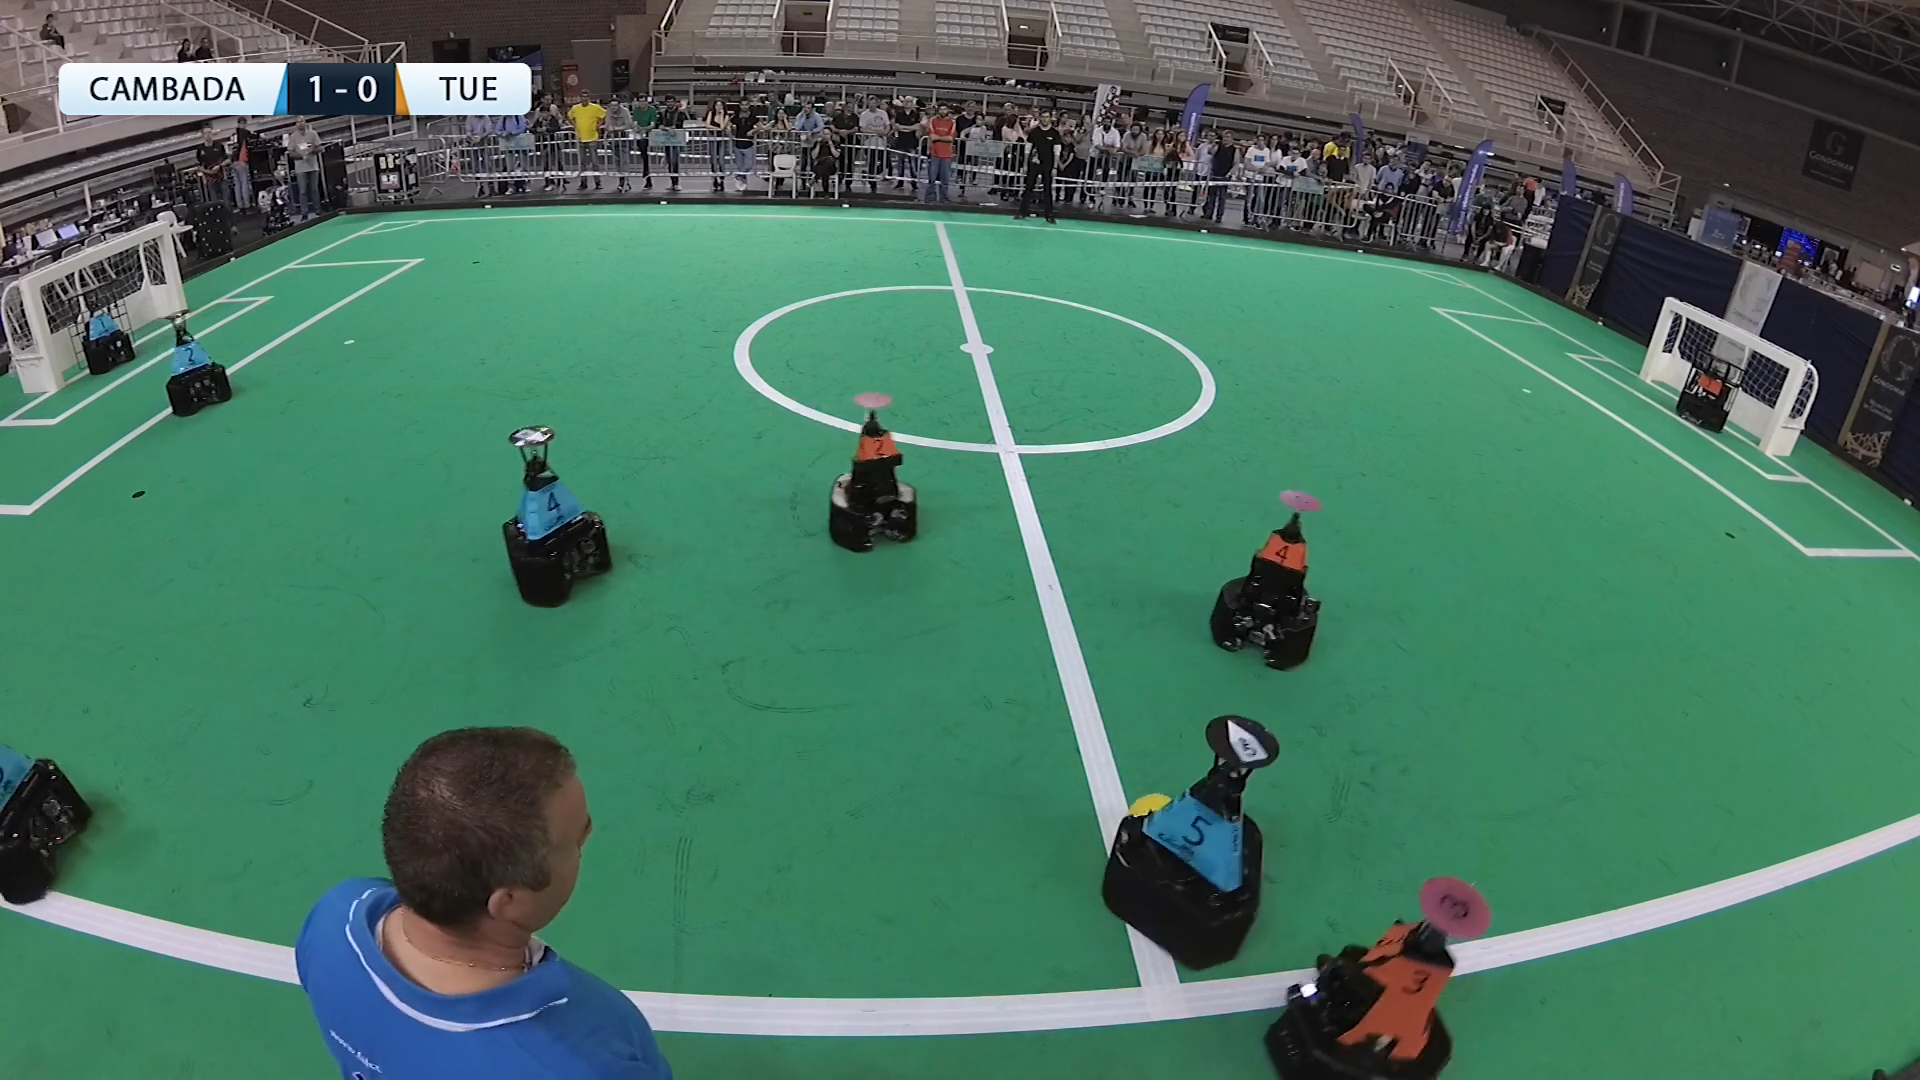BALL: (1120, 789, 1179, 814)
BLUE2: (161, 295, 229, 419)
BLUE3: (1, 700, 83, 938)
BLUE4: (480, 419, 621, 609)
BLUE5: (1087, 709, 1294, 969)
B_Goalie: (67, 273, 138, 385)
RED2: (812, 388, 942, 560)
RED3: (1265, 880, 1503, 1080)
RED4: (1196, 483, 1348, 683)
R_Goalie: (1677, 344, 1737, 436)
Referee: (273, 720, 680, 1080)
